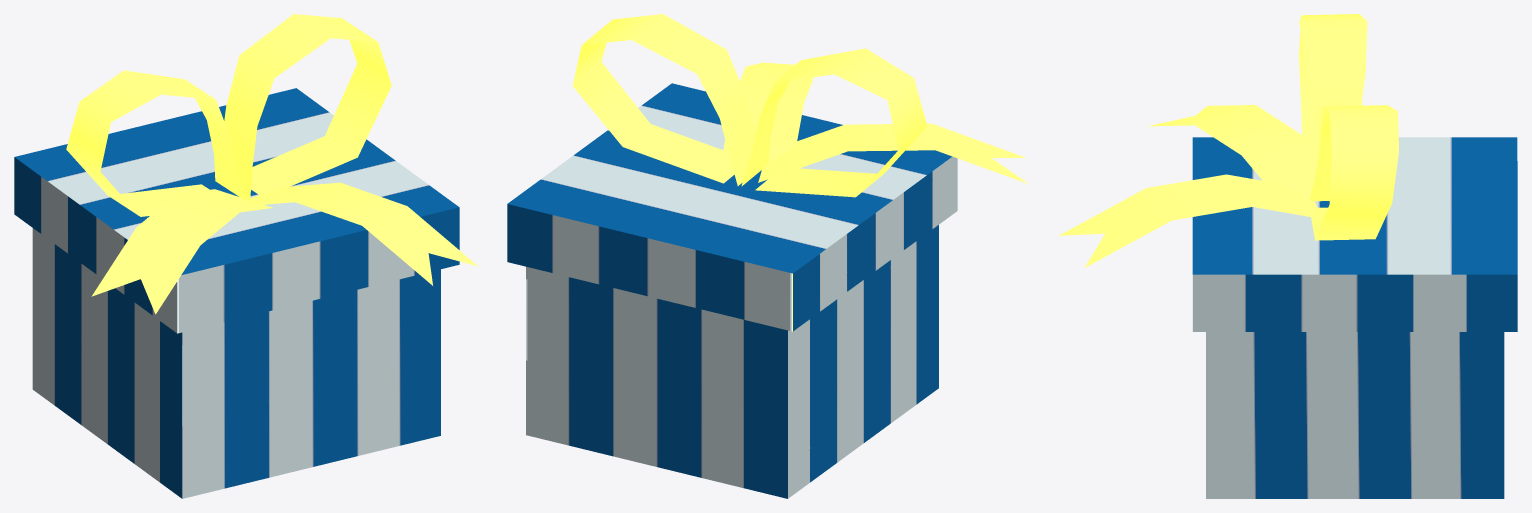
The model's file is Present03_Art.fbx.
3 renders of one model, left to right at view 1: azimuth 30°, elevation 25°; view 2: azimuth 150°, elevation 25°; view 3: azimuth 270°, elevation 25°, orthographic.
Visible parts, largest first — view 1: Present03_Art; view 2: Present03_Art; view 3: Present03_Art.
Boxes of the visible parts, bbox=[...] form: Present03_Art: bbox=[14, 14, 478, 498]; Present03_Art: bbox=[507, 14, 1028, 498]; Present03_Art: bbox=[1059, 14, 1517, 498].
Size of the model in its own units: 1.45 by 1.39 by 1.6.
